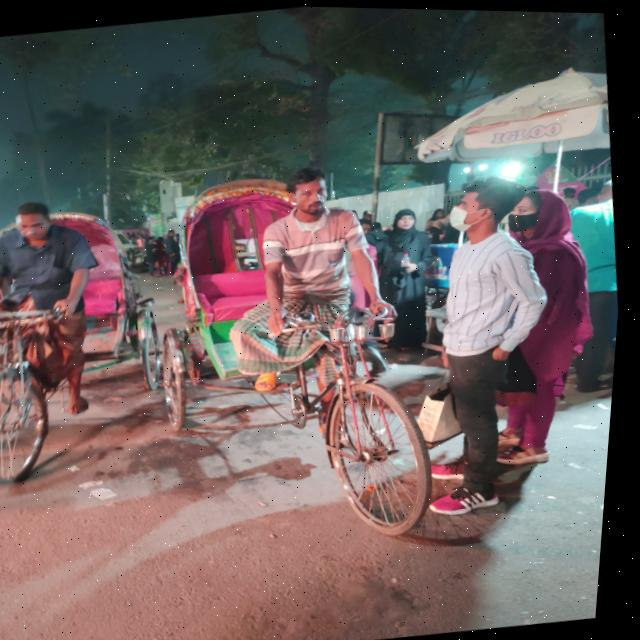rikshaw: (148, 136, 519, 618), (0, 188, 154, 530)
